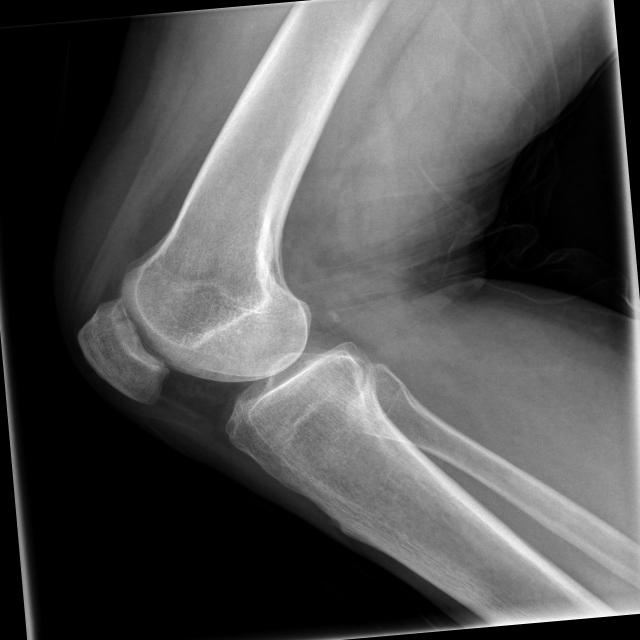Knee: (69, 258, 362, 465)
